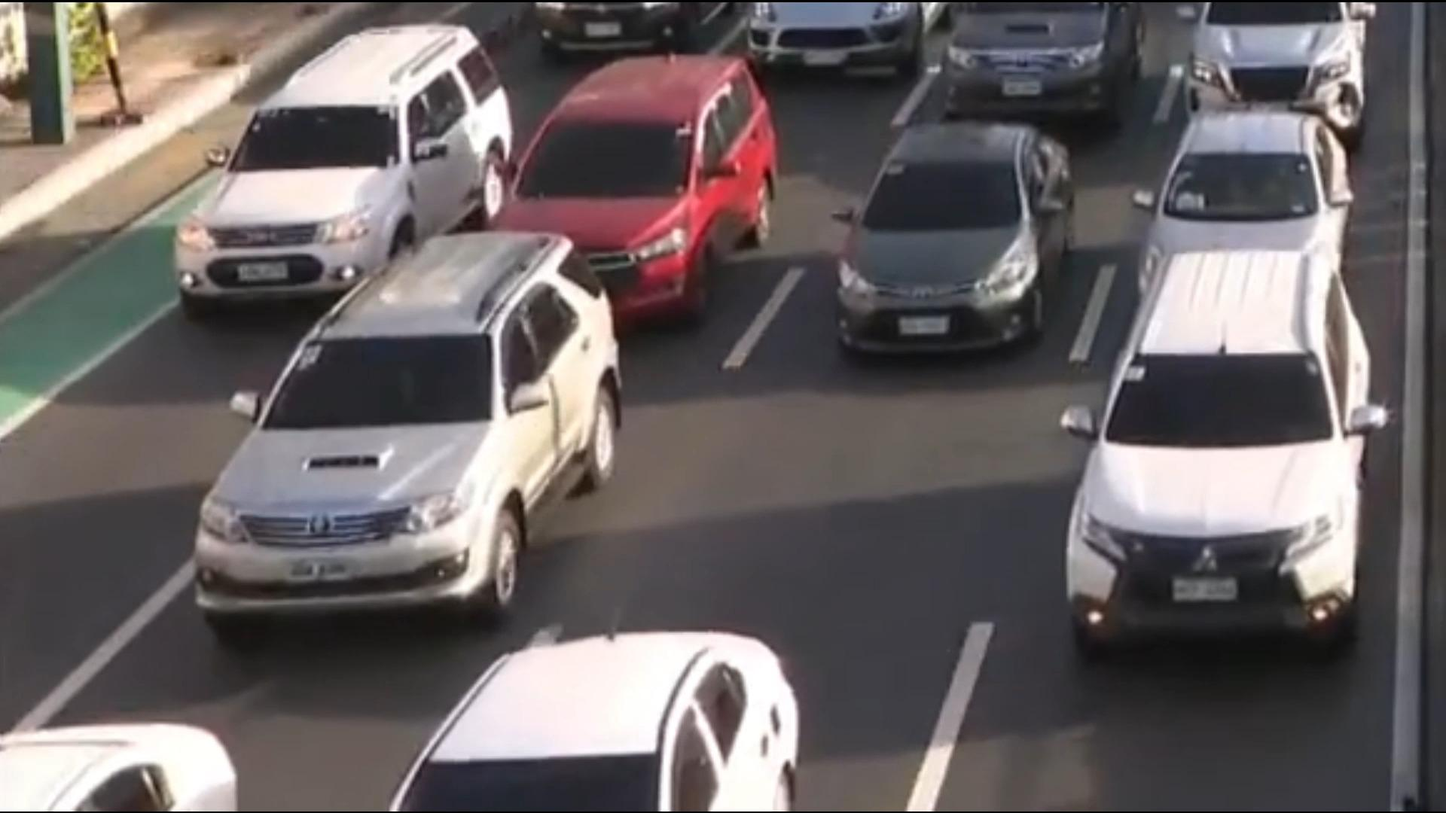SUV: (184, 230, 639, 665), (1059, 246, 1387, 676), (166, 19, 521, 315), (481, 51, 786, 339), (938, 0, 1159, 128), (1178, 0, 1380, 122), (743, 0, 955, 75)
Sedan: (372, 621, 817, 813), (819, 113, 1078, 375)
